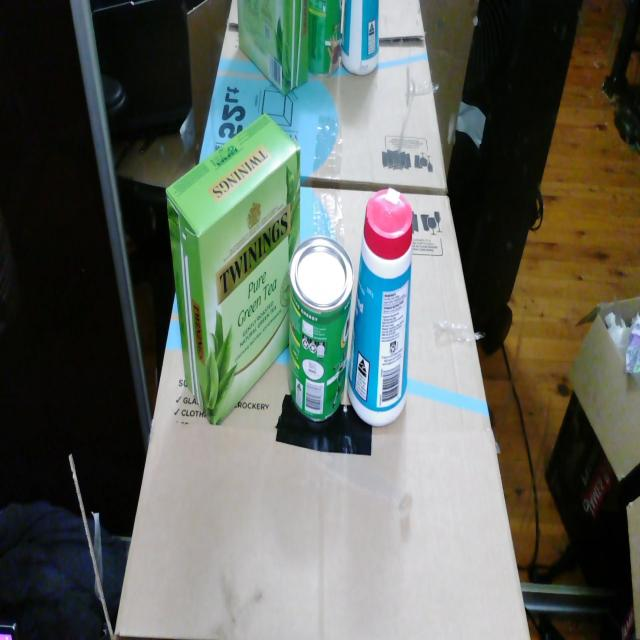nestle_milo_tin: (289, 237, 353, 421)
twinings_greentea_box: (167, 114, 301, 424)
woolworths_salt_bottle: (347, 188, 412, 426)
